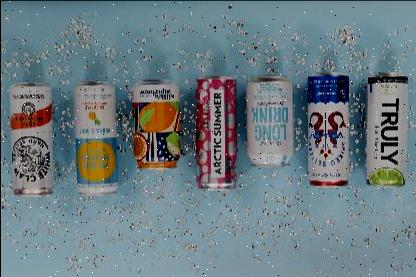Can: (4, 82, 54, 197), (71, 79, 119, 196), (362, 70, 410, 186), (305, 70, 351, 188), (193, 74, 238, 192), (128, 78, 182, 174), (244, 75, 294, 169)
